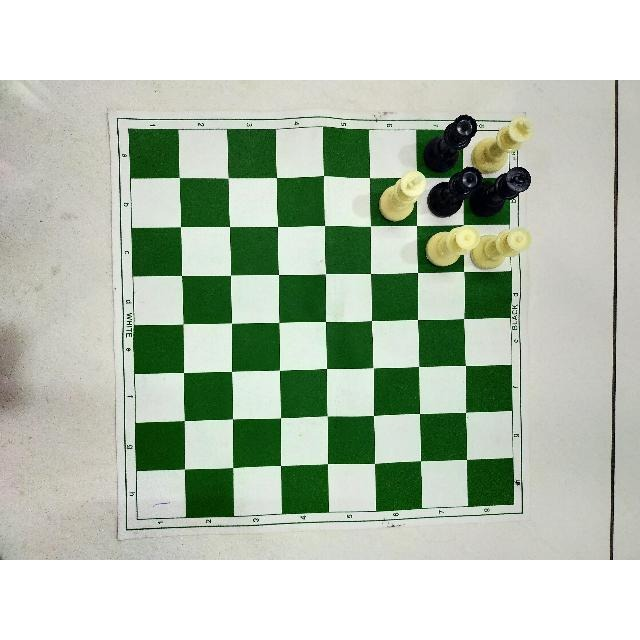black-king: (467, 165, 533, 219)
black-queen: (421, 112, 479, 175), (426, 165, 484, 221)
white-king: (469, 115, 535, 176), (376, 168, 426, 224)
white-queen: (467, 226, 533, 272), (422, 222, 482, 269)
